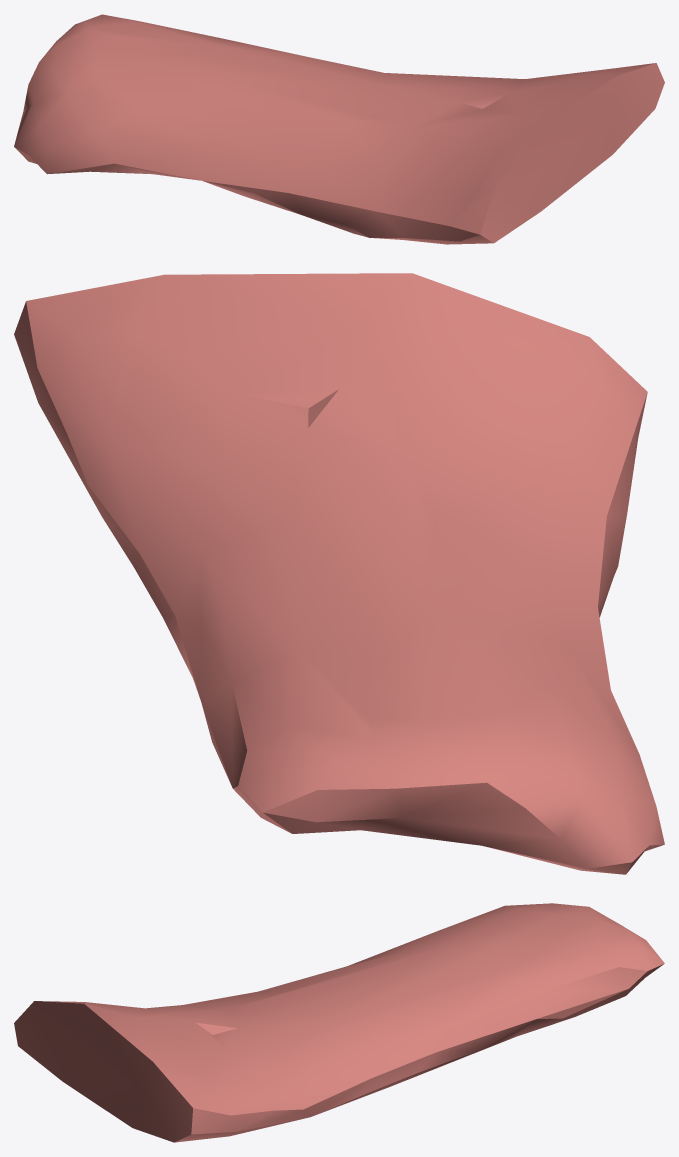
File: fma54160-n_mm2209.glb
The picture shows the model from 3 angles, top to bottom: view 1: azimuth 30°, elevation 25°; view 2: azimuth 150°, elevation 25°; view 3: azimuth 270°, elevation 25°; orthographic projection. The views are drawn at different scales.
Parts seen in each view (by area): view 1: FMA54160-N_MM2209; view 2: FMA54160-N_MM2209; view 3: FMA54160-N_MM2209.
Boxes of the visible parts, x1,y1,x2,y2 form: FMA54160-N_MM2209: [14, 14, 664, 244]; FMA54160-N_MM2209: [14, 273, 664, 874]; FMA54160-N_MM2209: [14, 903, 664, 1142].
Size of the model in its own units: 0.00871 by 0.00183 by 0.0092.
